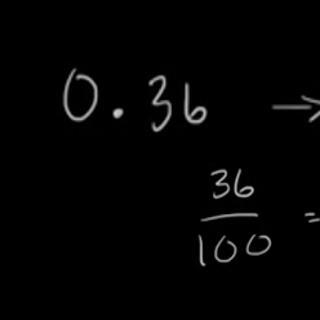.: (109, 97, 128, 130)
0: (59, 62, 102, 128), (240, 222, 272, 260), (212, 229, 239, 268)
1: (193, 230, 209, 272)
3: (142, 64, 174, 135), (206, 164, 231, 202)
6: (179, 77, 213, 132), (232, 162, 256, 202)
